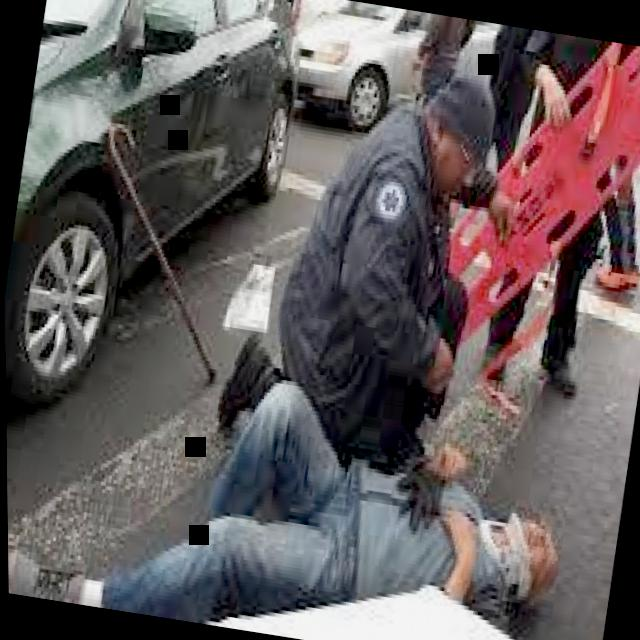Fall-Detected: (6, 335, 602, 640)
